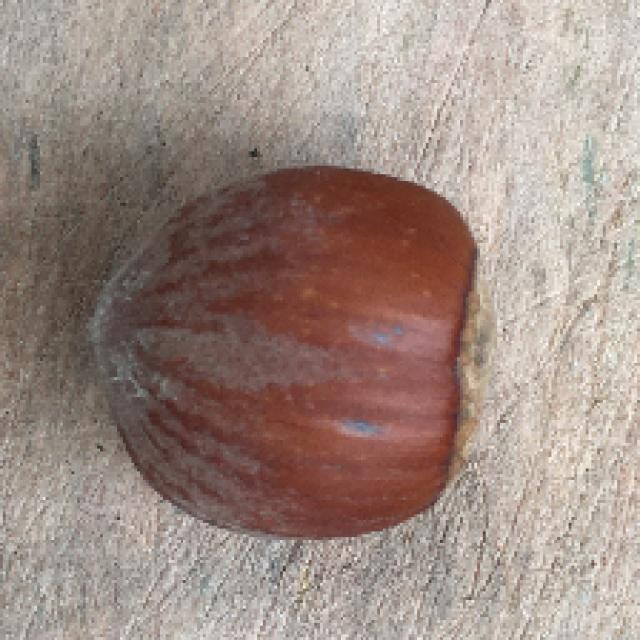qualityHazelnut: (83, 158, 500, 546)
